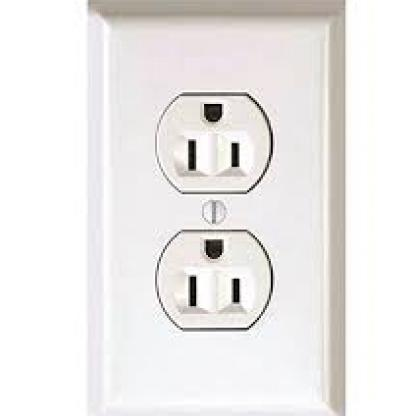OUTLET: (86, 2, 350, 415)
